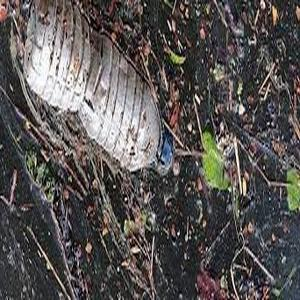Plastic: (19, 0, 176, 172)
